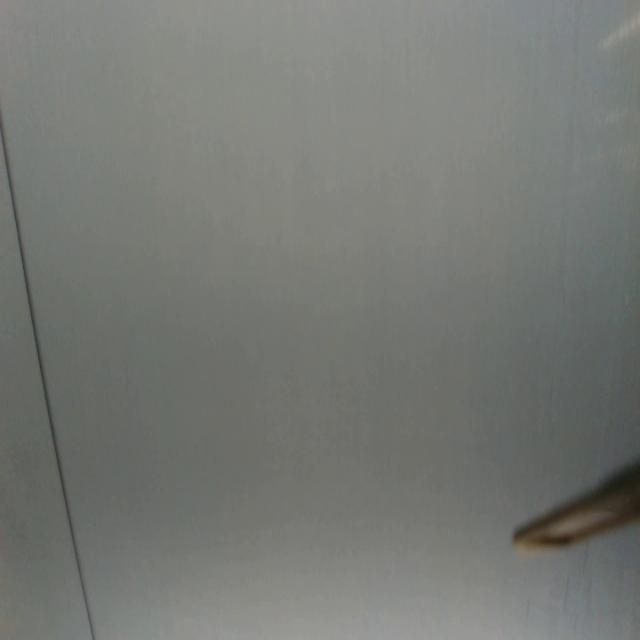crease: (0, 113, 96, 640)
